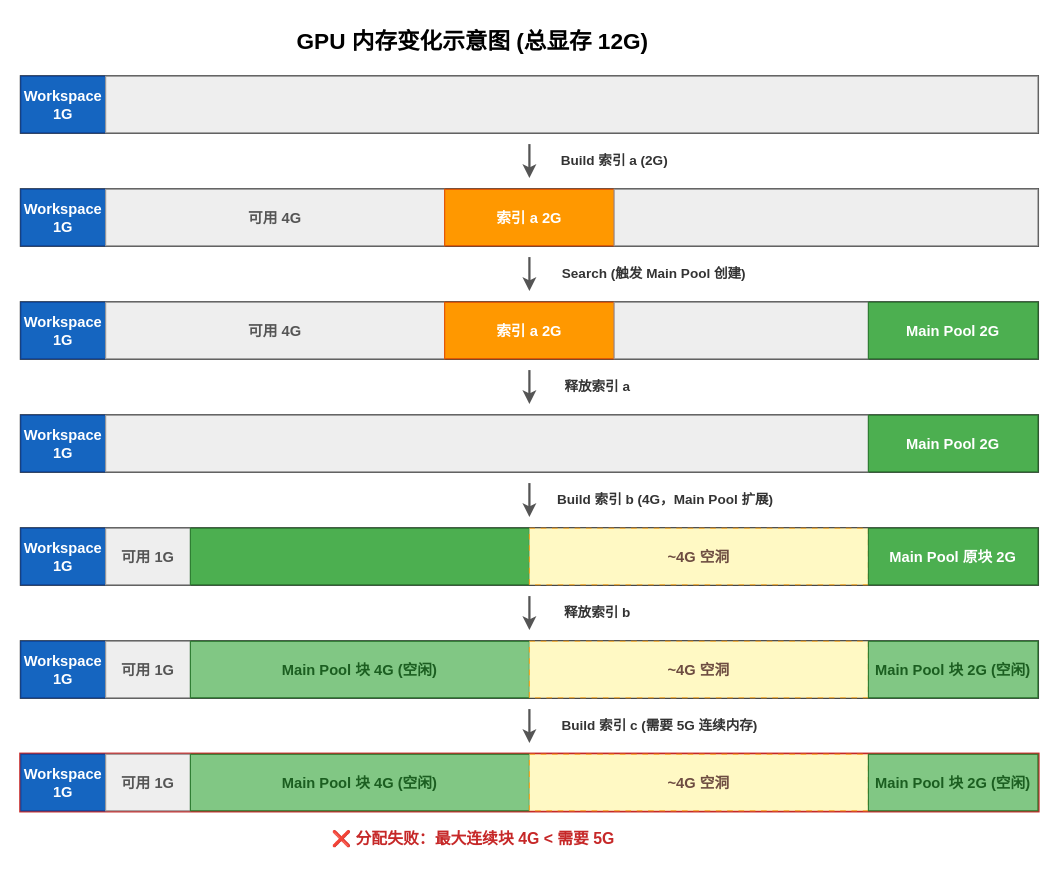
Image size: 1059x875. Some labels were removed from this diagram. The shapes that lost their labels are listed below. From the top down, each one's centre as x and y in pixels, then its label:
At (571,104): "可用 11G".
At (825,217): "可用 5G".
At (740,330): "可用 3G".
At (486,443): "可用 9G".
At (359,556): "Main Pool 扩展块 4G (索引 b)".
